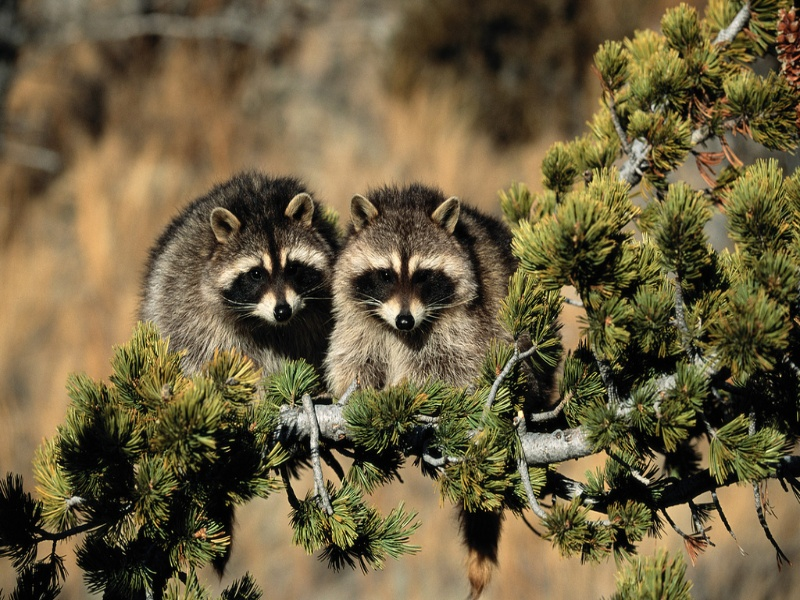raccoon: (336, 165, 554, 587), (139, 167, 338, 435)
